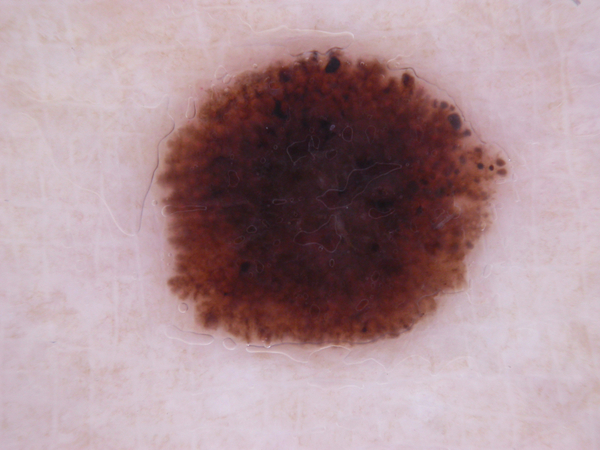Detected Lesion: (154, 44, 512, 354)
